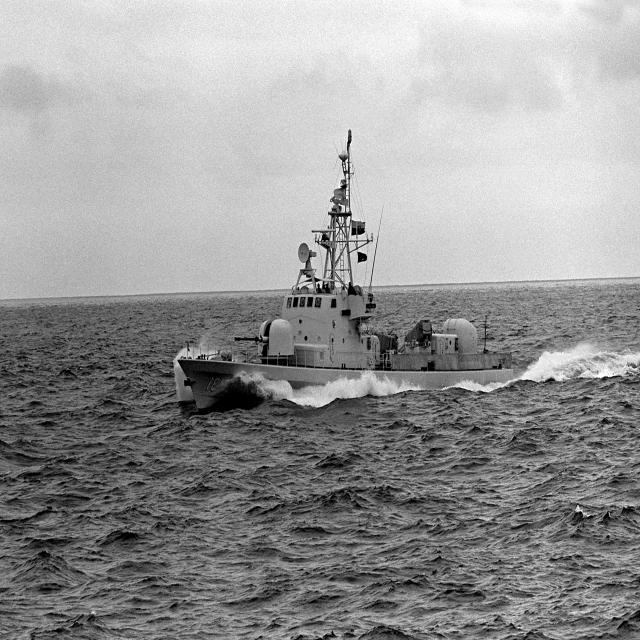navalvessels: (178, 139, 534, 415)
